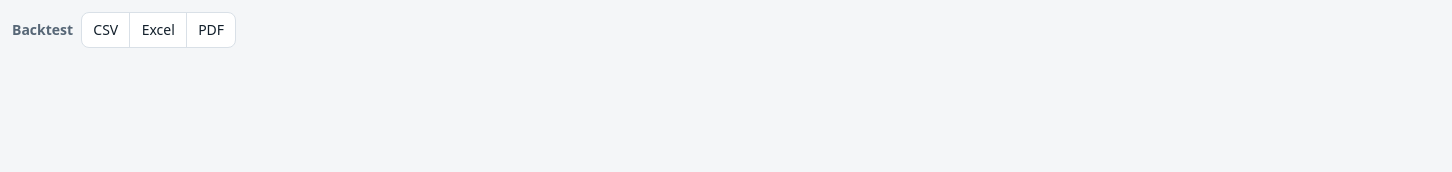
Test: ExportMenu › shows the server's explanation when a report cannot be built
This screenshot has width=1452, height=172.
Click the button with aria-label "Backtest as PDF": point(211, 30) [187,13,235,47]
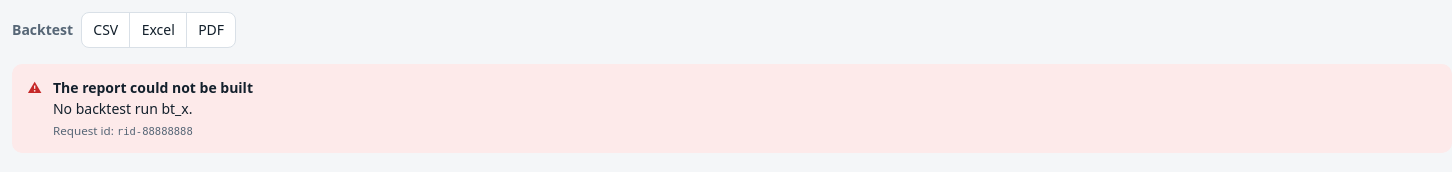
Result: the message "⚠ The report could not be built No backtest run bt_x. Request id: rid-88888888" is shown at [12,64,1451,152]
